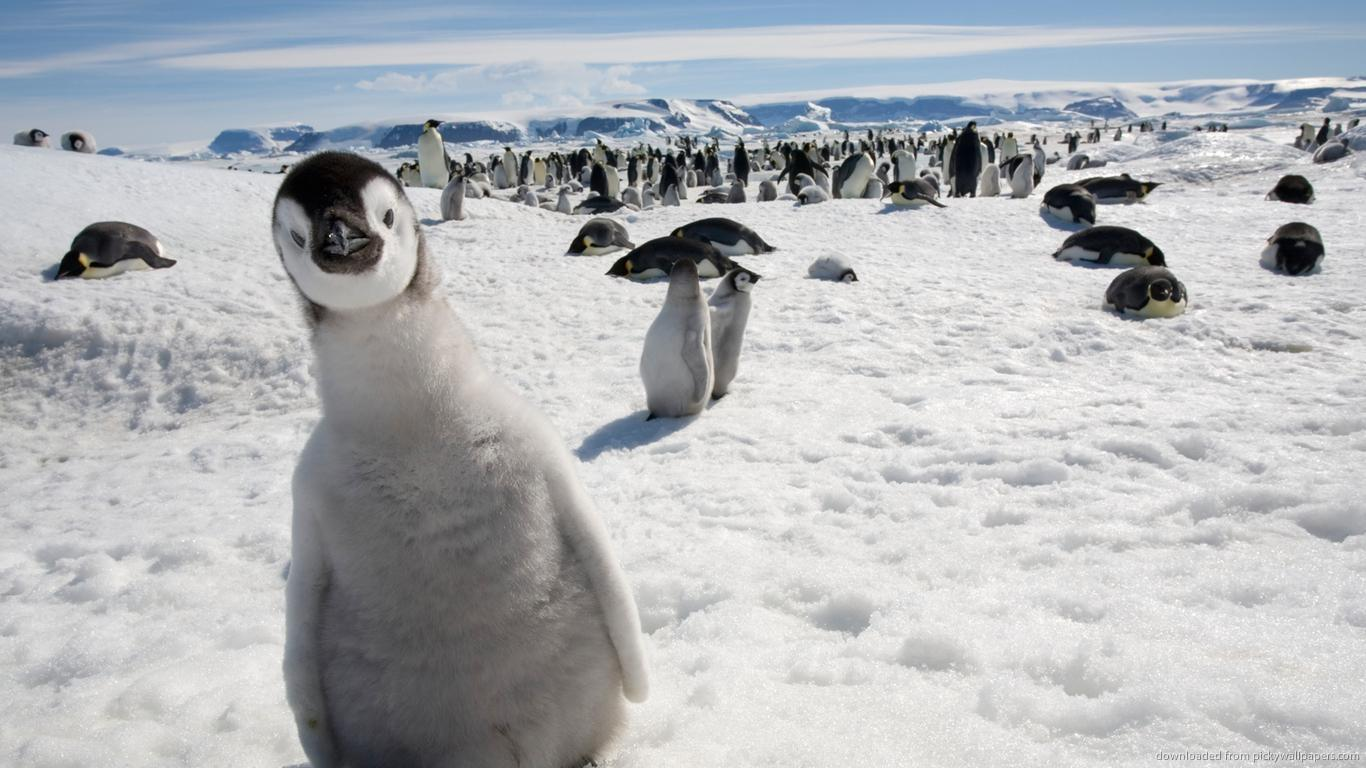Penguin: (272, 152, 648, 765), (640, 259, 712, 417), (56, 221, 176, 278), (707, 269, 760, 398), (608, 235, 738, 279), (1054, 227, 1166, 267), (1105, 264, 1187, 316), (672, 219, 776, 256), (1260, 220, 1326, 273), (779, 145, 829, 201), (1075, 173, 1165, 204), (950, 120, 982, 197), (568, 219, 634, 256), (1040, 184, 1093, 225), (833, 152, 876, 201), (419, 120, 448, 188), (806, 247, 862, 281), (883, 179, 947, 208), (1001, 151, 1036, 199), (1264, 174, 1316, 202), (440, 171, 466, 221), (1309, 135, 1349, 162), (660, 164, 687, 202), (61, 130, 97, 157), (13, 130, 54, 150), (890, 150, 916, 180), (940, 135, 955, 185), (579, 195, 624, 211), (733, 141, 749, 186), (1001, 130, 1017, 175), (589, 160, 608, 197), (625, 154, 646, 186), (502, 145, 518, 186), (979, 165, 1000, 196), (471, 162, 489, 197), (921, 168, 941, 198), (798, 183, 830, 200), (491, 155, 506, 190), (557, 186, 575, 215), (727, 178, 747, 204), (1317, 116, 1335, 144), (1032, 139, 1044, 180), (606, 164, 620, 199), (621, 187, 641, 211), (522, 149, 535, 185), (664, 183, 682, 209), (706, 148, 719, 184), (857, 137, 875, 163), (756, 180, 779, 200), (766, 148, 786, 171), (533, 158, 548, 188), (1298, 122, 1315, 147), (981, 136, 995, 166), (866, 176, 883, 198), (1067, 155, 1089, 172), (647, 154, 657, 190), (601, 146, 618, 167), (407, 165, 423, 187), (591, 136, 605, 161), (795, 171, 816, 187), (698, 184, 731, 194), (465, 178, 482, 197), (876, 163, 890, 186), (524, 191, 540, 211), (569, 149, 580, 178), (577, 148, 594, 166), (678, 165, 687, 199), (696, 195, 728, 204), (395, 162, 408, 184), (557, 152, 565, 185), (547, 153, 557, 178), (1084, 157, 1108, 167), (1347, 117, 1362, 133), (485, 152, 494, 178), (642, 189, 655, 207), (693, 148, 704, 169), (1045, 150, 1061, 164), (463, 152, 472, 176), (580, 166, 592, 184), (569, 178, 583, 193), (450, 158, 462, 175), (1067, 136, 1079, 153), (614, 148, 624, 168), (711, 166, 722, 184), (876, 137, 884, 160), (562, 164, 572, 182), (687, 169, 697, 187), (887, 135, 897, 153), (517, 185, 530, 198), (832, 140, 840, 161), (697, 169, 706, 187), (545, 173, 555, 189), (517, 151, 525, 171), (541, 199, 555, 210), (665, 152, 676, 166), (676, 150, 686, 165), (927, 140, 937, 154), (896, 137, 908, 148), (830, 165, 840, 178), (906, 140, 916, 153), (1333, 122, 1342, 136), (999, 132, 1007, 147), (641, 180, 652, 190), (511, 195, 523, 204), (928, 155, 937, 167), (994, 132, 1000, 150), (655, 148, 662, 163), (918, 138, 925, 153), (1094, 128, 1101, 143), (1115, 127, 1122, 142), (1086, 131, 1095, 142), (848, 140, 855, 154), (726, 157, 733, 170), (844, 129, 851, 142), (841, 140, 846, 157), (640, 142, 647, 154), (1063, 132, 1071, 142), (866, 129, 872, 142), (875, 129, 882, 140), (1219, 124, 1228, 132), (647, 143, 654, 153), (1073, 130, 1081, 138), (1161, 120, 1167, 130), (1140, 122, 1145, 131), (1148, 122, 1153, 131), (1208, 125, 1214, 132), (1127, 124, 1132, 132), (1194, 125, 1202, 130)
